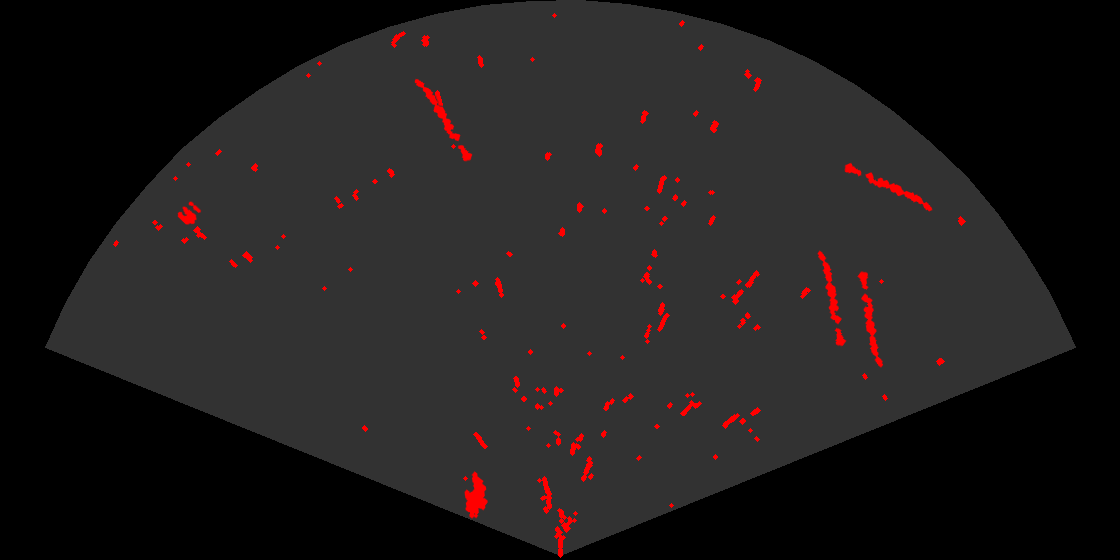AUV: (463, 470, 489, 520)
ball: (176, 200, 203, 227)
chain: (413, 77, 474, 163), (843, 161, 934, 213), (816, 249, 848, 348), (856, 269, 885, 369)
